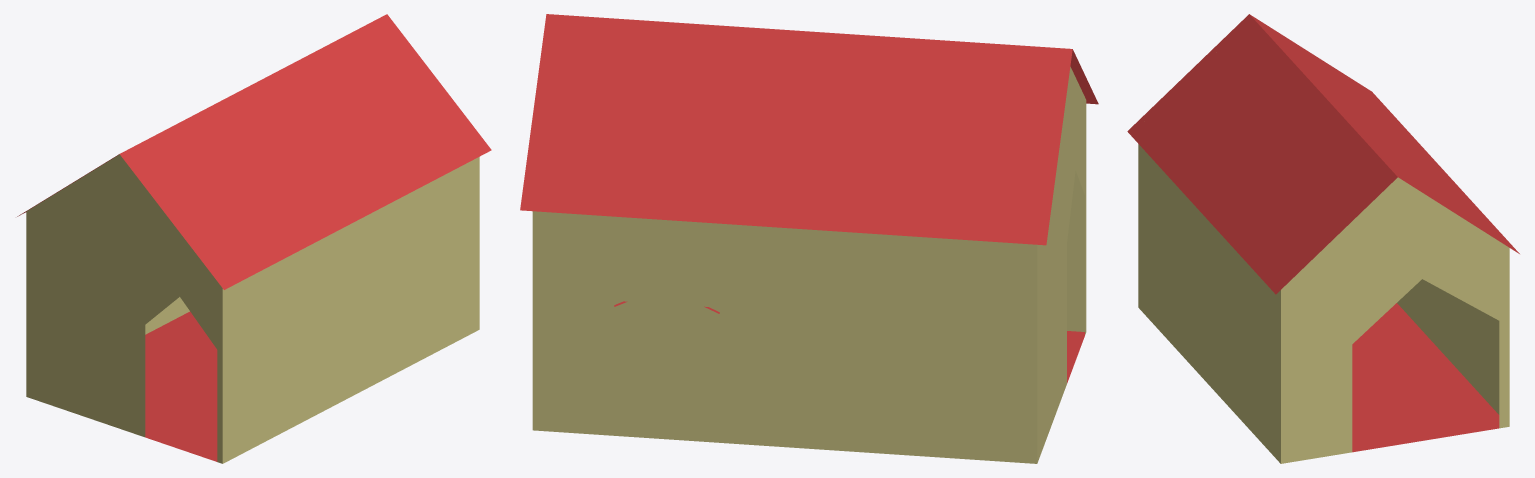
The picture shows the model from 3 angles, left to right: view 1: azimuth 30°, elevation 25°; view 2: azimuth 150°, elevation 25°; view 3: azimuth 270°, elevation 25°; orthographic projection. The views are drawn at different scales.
Size of the model in its own units: 28.12 by 23.03 by 17.54.
